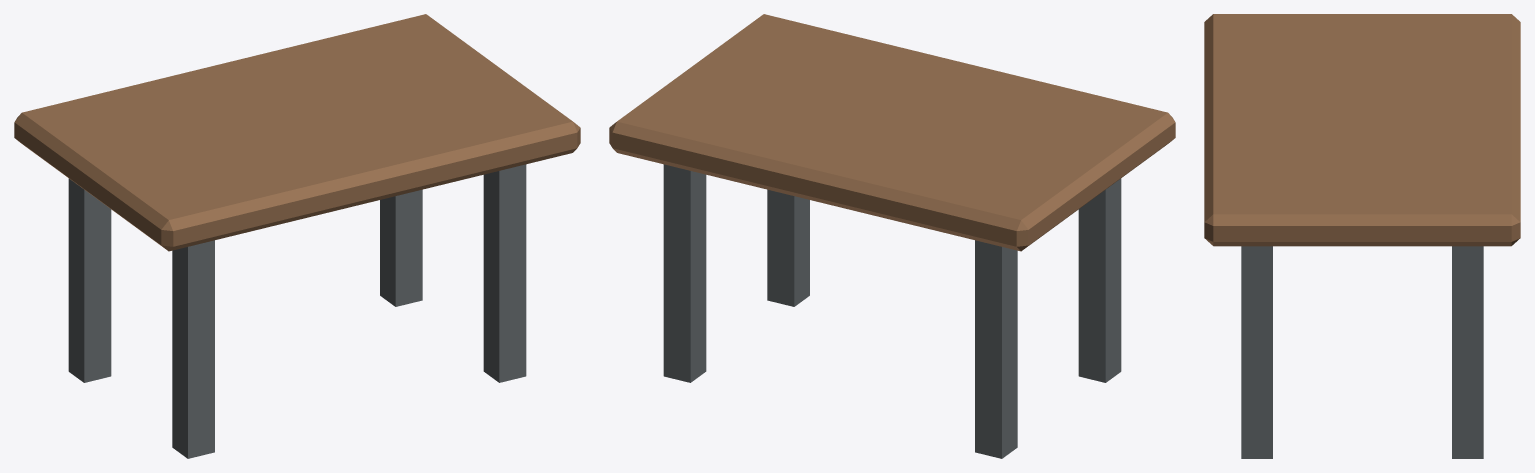
Rendered from table.glb.
3 renders of one model, left to right at view 1: azimuth 30°, elevation 25°; view 2: azimuth 150°, elevation 25°; view 3: azimuth 270°, elevation 25°, orthographic.
Parts seen in each view (by area): view 1: TableTop, TableLeg.002, TableLeg, TableLeg.001, TableLeg.003; view 2: TableTop, TableLeg.003, TableLeg.001, TableLeg, TableLeg.002; view 3: TableTop, TableLeg.002, TableLeg.003.
Boxes of the visible parts, bbox=[...] form: TableTop: bbox=[14, 14, 580, 251]; TableLeg.002: bbox=[483, 164, 526, 382]; TableLeg: bbox=[172, 240, 214, 458]; TableLeg.001: bbox=[68, 178, 111, 382]; TableLeg.003: bbox=[380, 189, 422, 306]; TableTop: bbox=[609, 14, 1175, 251]; TableLeg.003: bbox=[663, 164, 706, 382]; TableLeg.001: bbox=[975, 240, 1017, 458]; TableLeg: bbox=[1078, 178, 1121, 382]; TableLeg.002: bbox=[767, 189, 809, 306]; TableTop: bbox=[1204, 14, 1520, 246]; TableLeg.002: bbox=[1241, 246, 1272, 458]; TableLeg.003: bbox=[1452, 246, 1483, 458].
Size of the model in its own units: 1.4 by 0.82 by 0.9.
